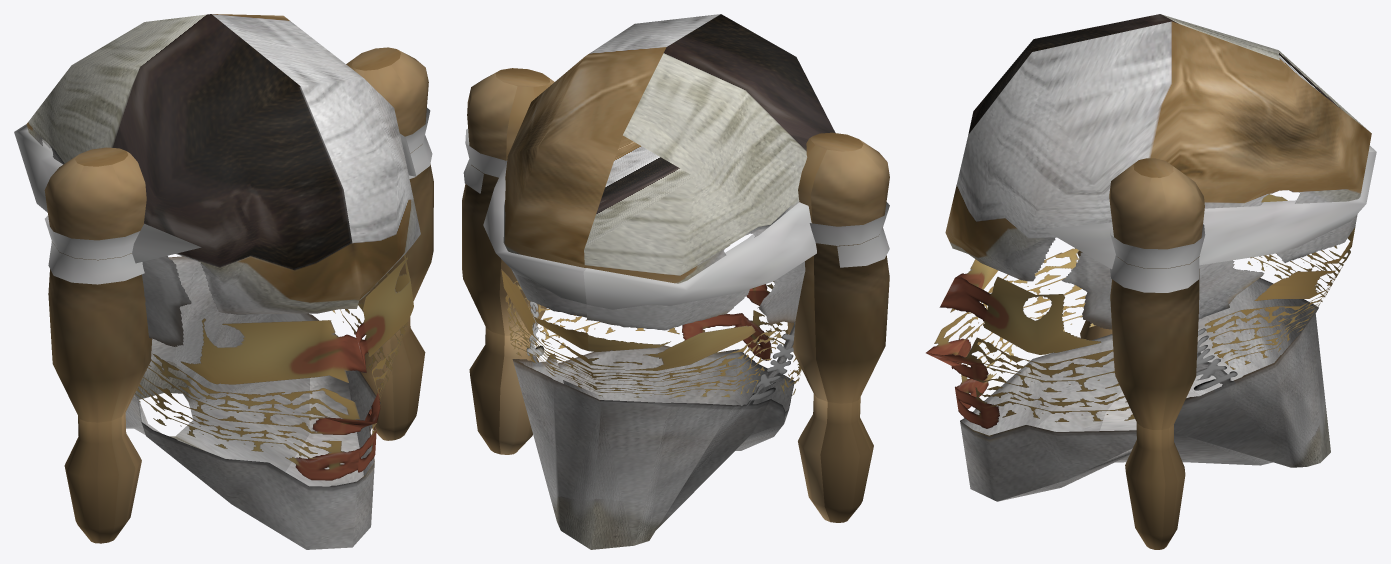
The model's file is yayoi_isw_e_3.dae.
3 renders of one model, left to right at view 1: azimuth 30°, elevation 25°; view 2: azimuth 150°, elevation 25°; view 3: azimuth 270°, elevation 25°, orthographic. The views are drawn at different scales.
Parts seen in each view (by area): view 1: yayoi_isw_e_3; view 2: yayoi_isw_e_3; view 3: yayoi_isw_e_3.
Boxes of the visible parts, box(x1,y1,x2,y2) form: yayoi_isw_e_3: box(14, 14, 433, 549); yayoi_isw_e_3: box(462, 14, 889, 549); yayoi_isw_e_3: box(926, 14, 1376, 549).
Bounding box in the file's own units: 0.5463 × 0.562 × 0.6106.
